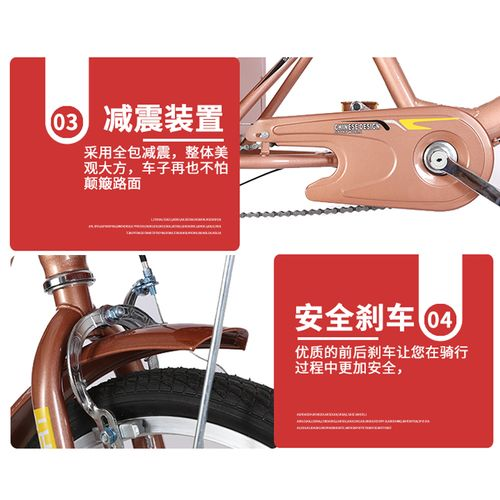empty: (242, 57, 497, 241)
